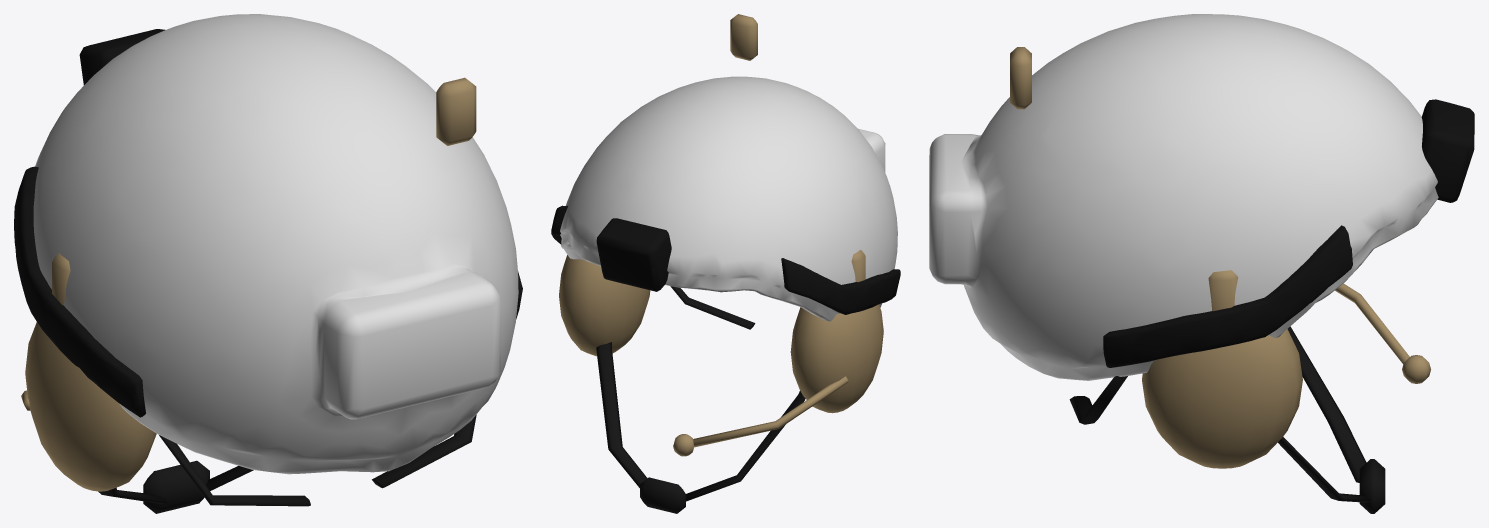
The model's file is nato_helmet.glb.
3 renders of one model, left to right at view 1: azimuth 30°, elevation 25°; view 2: azimuth 150°, elevation 25°; view 3: azimuth 270°, elevation 25°, orthographic. The views are drawn at different scales.
Visible parts, largest first — view 1: nato_helmet_LOD0; view 2: nato_helmet_LOD0; view 3: nato_helmet_LOD0.
Boxes of the visible parts, box(x1,y1,x2,y2) form: nato_helmet_LOD0: box(14, 14, 522, 513); nato_helmet_LOD0: box(551, 14, 900, 513); nato_helmet_LOD0: box(929, 14, 1474, 513).
Size of what is drawn, in the model's own units: 0.244 by 0.294 by 0.2977.
